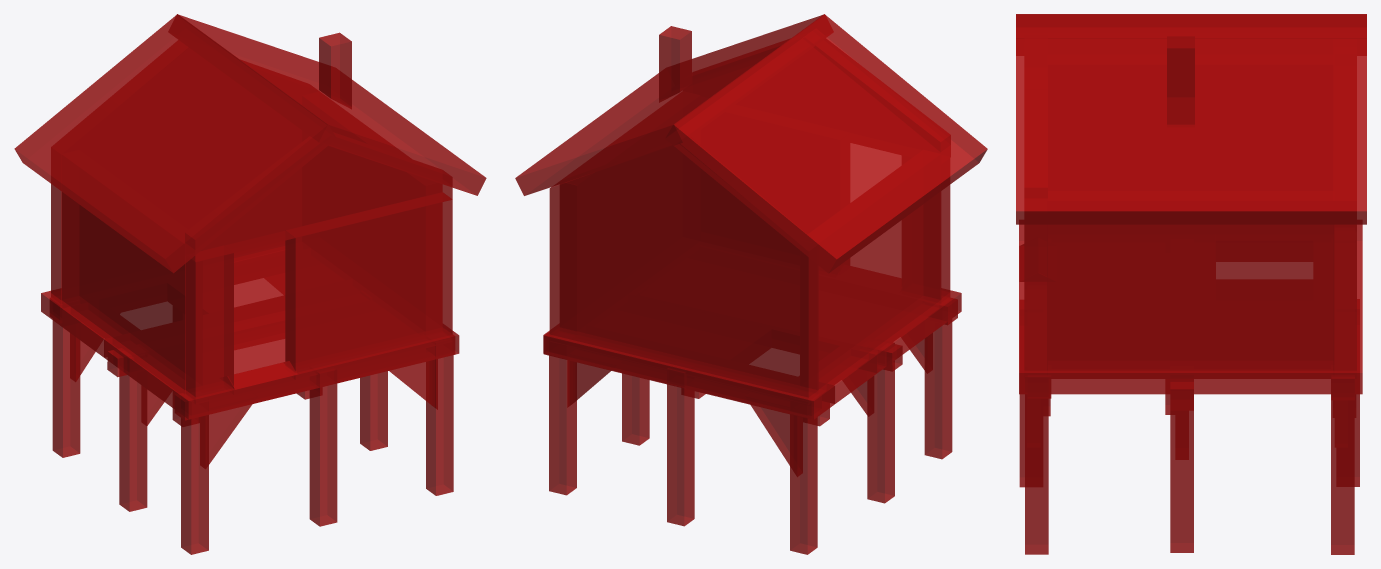
The model's file is SM_Bld_Shack_Swamp_01_Collision.fbx.
3 renders of one model, left to right at view 1: azimuth 30°, elevation 25°; view 2: azimuth 150°, elevation 25°; view 3: azimuth 270°, elevation 25°, orthographic. The views are drawn at different scales.
Visible parts, largest first — view 1: SM_Bld_Shack_Swamp_01_Collision; view 2: SM_Bld_Shack_Swamp_01_Collision; view 3: SM_Bld_Shack_Swamp_01_Collision.
Part boxes in pixels (bbox=[...]): SM_Bld_Shack_Swamp_01_Collision: bbox=[14, 14, 486, 554]; SM_Bld_Shack_Swamp_01_Collision: bbox=[515, 14, 987, 554]; SM_Bld_Shack_Swamp_01_Collision: bbox=[1016, 14, 1366, 554].
Bounding box in the file's own units: 520 × 643 × 423.
